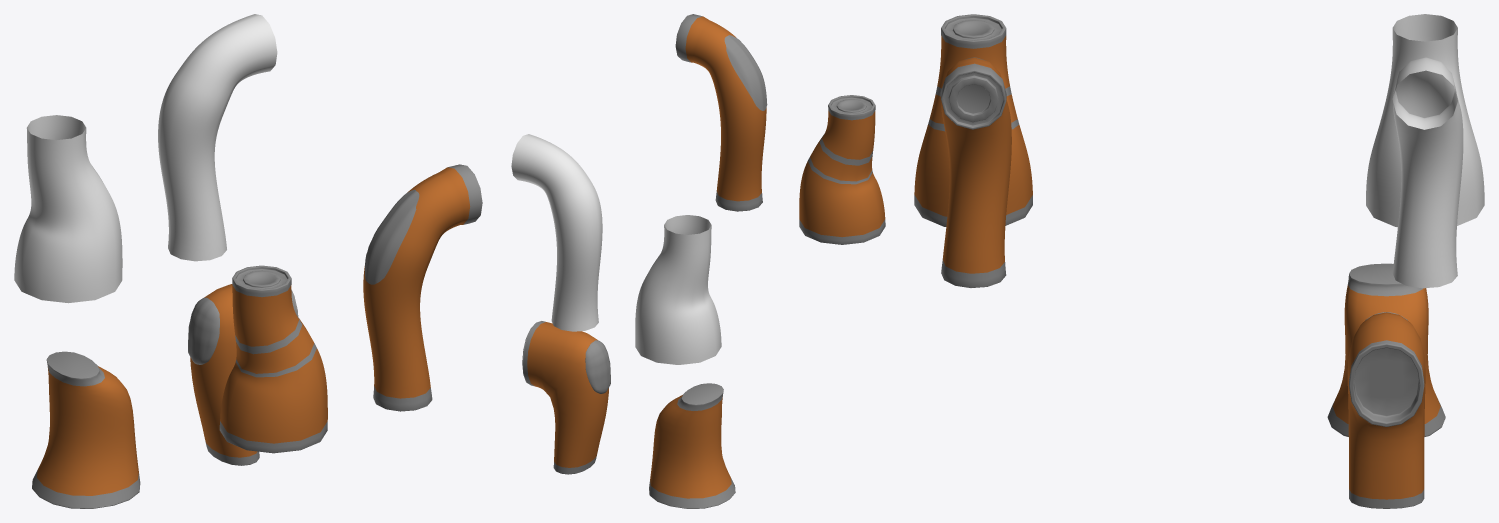
Rendered from Kuka.fbx.
3 views of the same model, side by side, from view 1: azimuth 30°, elevation 25°; view 2: azimuth 150°, elevation 25°; view 3: azimuth 270°, elevation 25° (orthographic). The views are drawn at different scales.
Visible parts, largest first — view 1: NurbsPath, NurbsPath.004, NurbsPath.005, NurbsPath.002, Base, Joint; view 2: NurbsPath, NurbsPath.004, NurbsPath.005, NurbsPath.002, Joint, Base; view 3: Joint, NurbsPath.005, NurbsPath.002, NurbsPath, NurbsPath.004, Base.
Boxes of the visible parts, x1,y1,x2,y2 form: NurbsPath: (14, 115, 122, 303); NurbsPath.004: (219, 265, 327, 453); NurbsPath.005: (363, 164, 482, 411); NurbsPath.002: (158, 14, 277, 261); Base: (32, 351, 140, 508); Joint: (188, 284, 298, 465); NurbsPath: (635, 215, 721, 364); NurbsPath.004: (799, 95, 885, 244); NurbsPath.005: (675, 14, 767, 211); NurbsPath.002: (511, 134, 602, 331); Joint: (522, 321, 610, 474); Base: (649, 383, 735, 508); Joint: (1347, 312, 1425, 508); NurbsPath.005: (940, 57, 1011, 287); NurbsPath.002: (1392, 57, 1463, 288); NurbsPath: (1366, 14, 1484, 227); NurbsPath.004: (914, 14, 1032, 226); Base: (1327, 263, 1445, 436).
Size of the model in its own units: 748 by 1213 by 1383.
